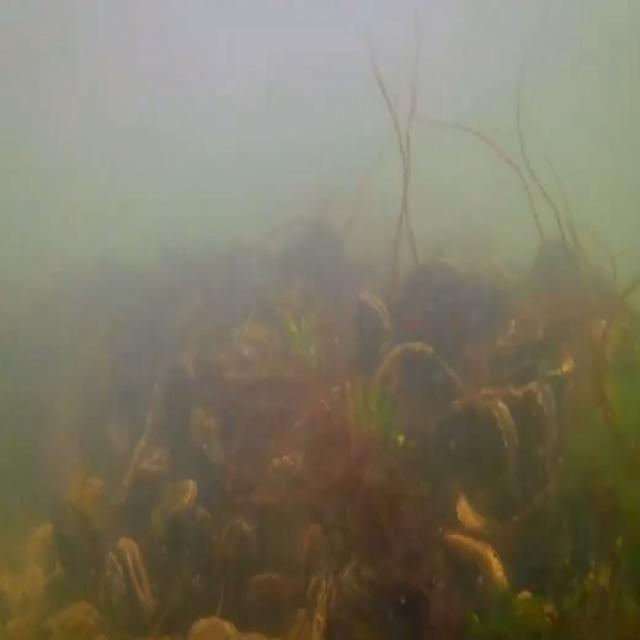Oyster-Closed: (355, 288, 394, 391), (150, 477, 199, 522)
Oyster-Indeterminate: (372, 342, 466, 430), (476, 382, 559, 466), (445, 394, 519, 484), (442, 527, 510, 592), (455, 490, 506, 534), (126, 445, 174, 481)
Oyster-Open: (96, 534, 153, 640), (296, 557, 332, 640)
